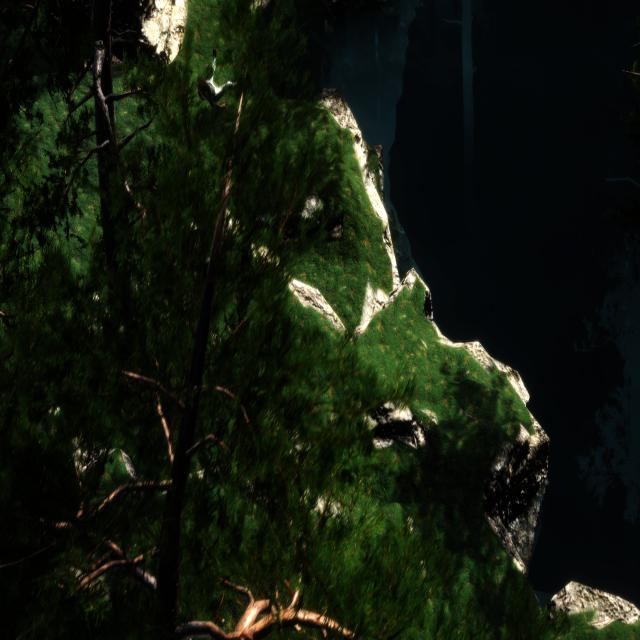Human: (196, 49, 246, 113)
